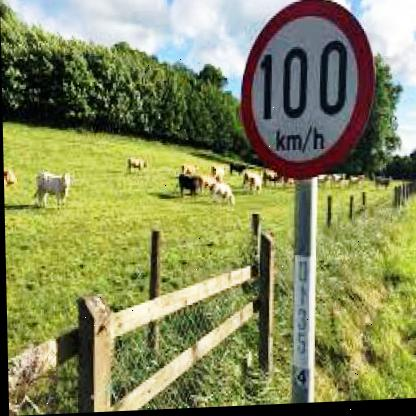Speed Limit -100-: (237, 0, 378, 183)
